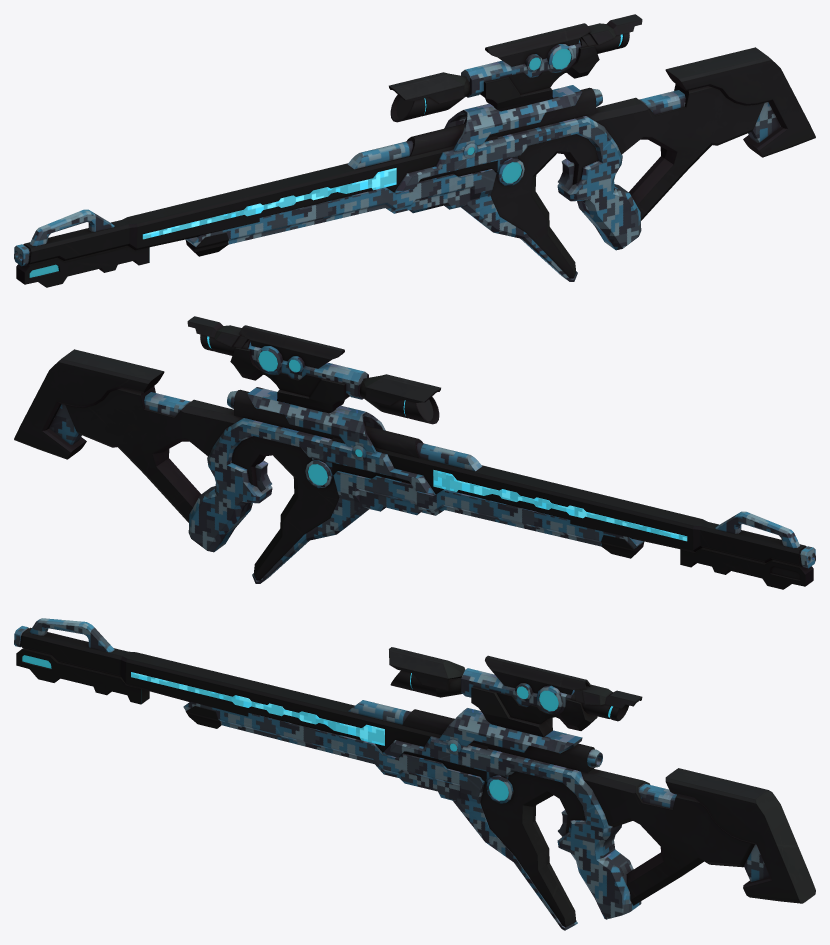
Rendered from sniper2.fbx.
The picture shows the model from 3 angles, top to bottom: view 1: azimuth 30°, elevation 25°; view 2: azimuth 150°, elevation 25°; view 3: azimuth 330°, elevation 25°; orthographic projection.
Visible parts, largest first — view 1: Sniper2; view 2: Sniper2; view 3: Sniper2.
Part boxes in pixels (x1,y1,x2,y2): Sniper2: (14, 14, 815, 287); Sniper2: (14, 316, 815, 589); Sniper2: (14, 618, 815, 930).
Size of the model in its own units: 807 by 244 by 31.49.
